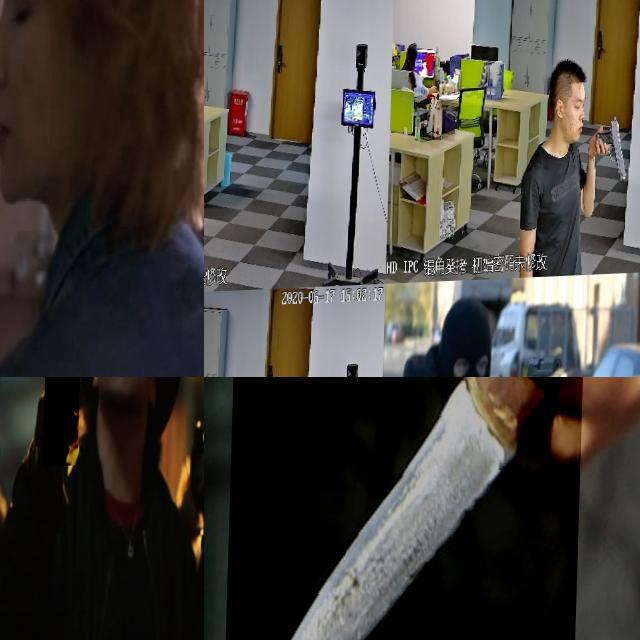-: (225, 377, 585, 640)
gun-knife-thesis - v11 Yolov5 augmented: (0, 158, 83, 377), (44, 377, 84, 481), (592, 116, 628, 186), (512, 347, 565, 377), (204, 101, 224, 166)
